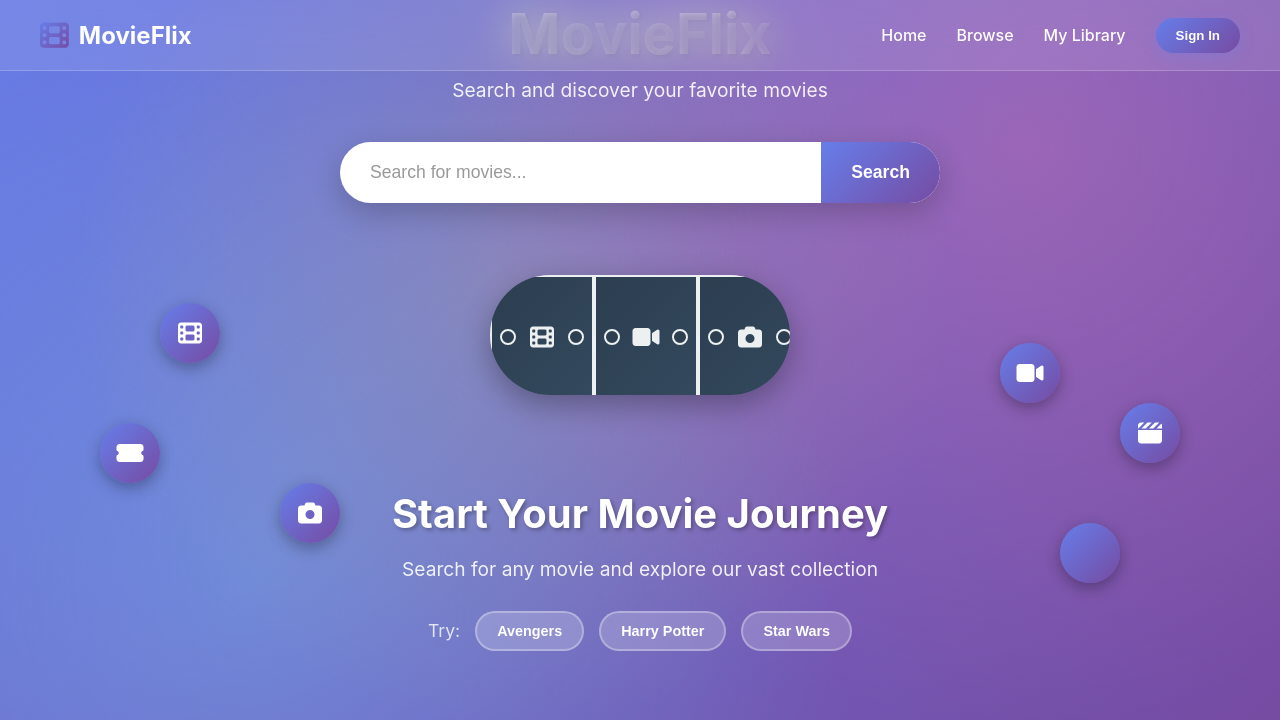
Home Page › example search chips › populates the input when Avengers chip is clicked
(page scrolled)
Click the button "Avengers".
click(530, 631)  # box top-left (475, 611), bottom-right (584, 651)
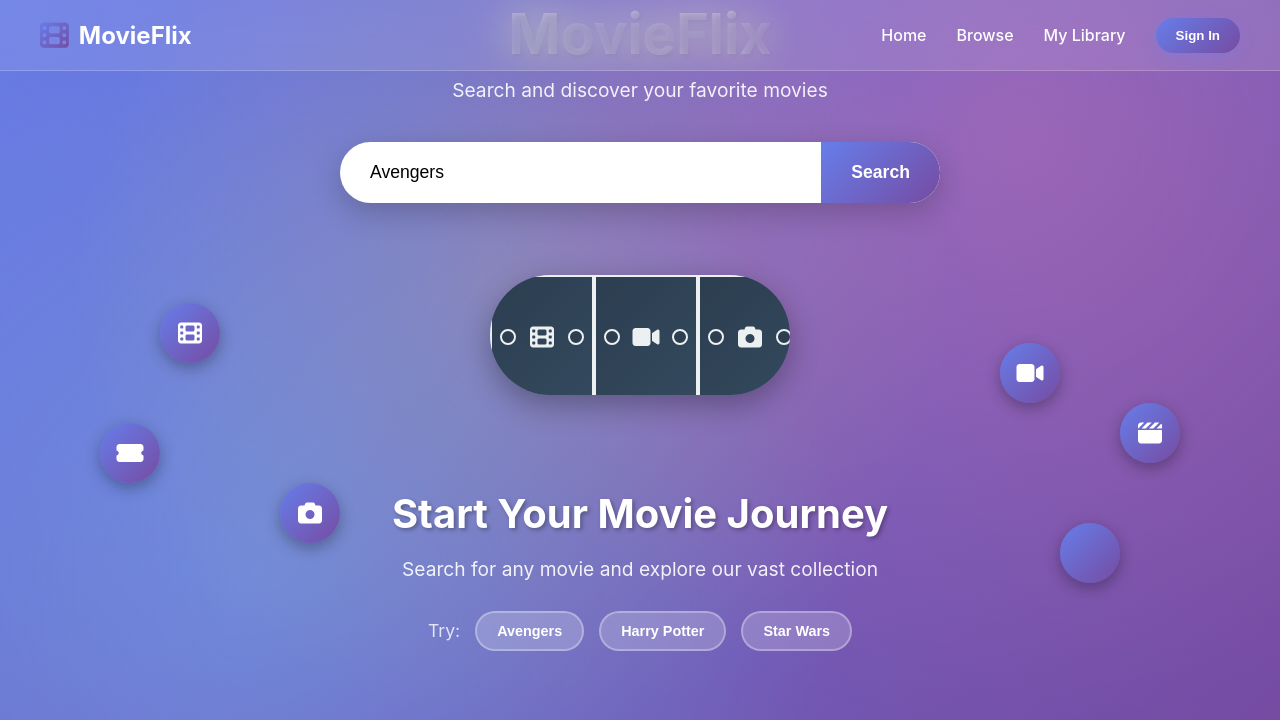
Expected: the field with placeholder "Search for movies..." holds "Avengers", top-left (340, 142), bottom-right (821, 203)
